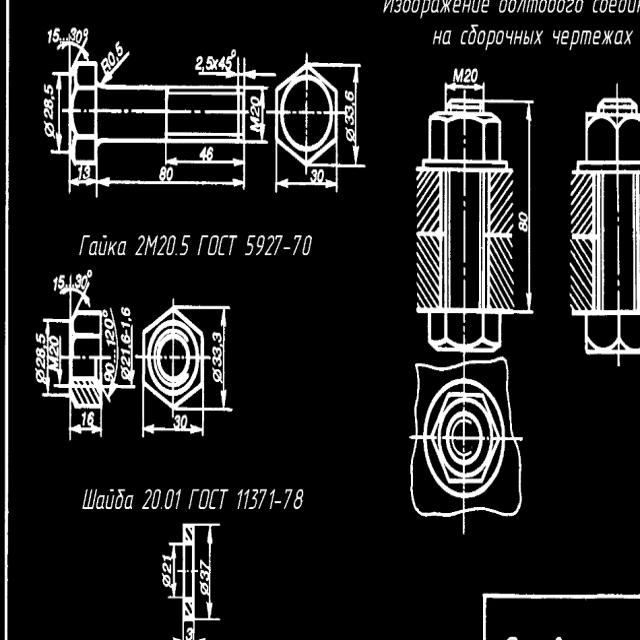marking_line: (99, 175, 243, 188), (525, 104, 532, 307), (105, 50, 134, 84), (167, 155, 242, 167), (220, 310, 228, 408), (280, 178, 338, 190), (144, 425, 201, 437), (206, 526, 213, 618), (354, 66, 360, 165), (55, 77, 62, 150), (447, 80, 484, 92), (45, 322, 51, 391), (247, 69, 278, 81), (198, 71, 236, 79), (71, 425, 99, 435), (171, 545, 176, 596)
numeric: (243, 230, 283, 259), (235, 486, 275, 510), (289, 231, 314, 259), (159, 235, 189, 257), (39, 85, 54, 122), (452, 68, 483, 84), (284, 486, 303, 511), (163, 486, 181, 510), (144, 487, 160, 512), (212, 329, 222, 366), (121, 335, 132, 368), (104, 318, 116, 347), (35, 333, 45, 367), (516, 209, 529, 235), (133, 233, 146, 258), (345, 91, 354, 126), (196, 53, 212, 72), (51, 338, 60, 370), (219, 51, 233, 71), (309, 166, 324, 184), (47, 27, 61, 46), (78, 410, 95, 425), (78, 164, 90, 184), (53, 274, 66, 292), (75, 273, 88, 291), (199, 557, 209, 580), (250, 97, 262, 116), (161, 554, 172, 573), (70, 30, 83, 46), (121, 306, 130, 329), (173, 415, 190, 427), (105, 361, 114, 381), (184, 627, 193, 640)
special_symbol: (210, 366, 223, 385), (344, 127, 357, 145), (34, 367, 46, 386), (160, 573, 172, 589), (197, 580, 208, 597), (120, 367, 131, 381), (87, 268, 94, 279), (102, 309, 108, 318)
